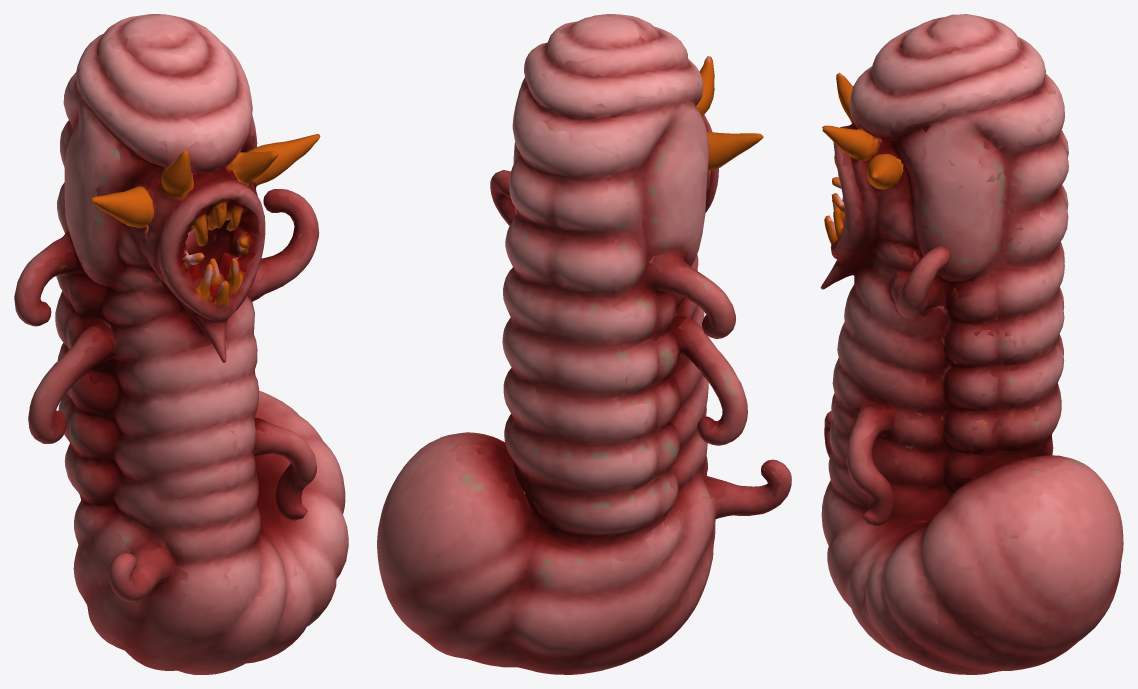
The model's file is SARGD1.obj.
The picture shows the model from 3 angles, left to right: view 1: azimuth 30°, elevation 25°; view 2: azimuth 150°, elevation 25°; view 3: azimuth 270°, elevation 25°; orthographic projection. The views are drawn at different scales.
Size of the model in its own units: 0.5256 by 1 by 0.4525.
Materials: 1 (1 with a texture image).
